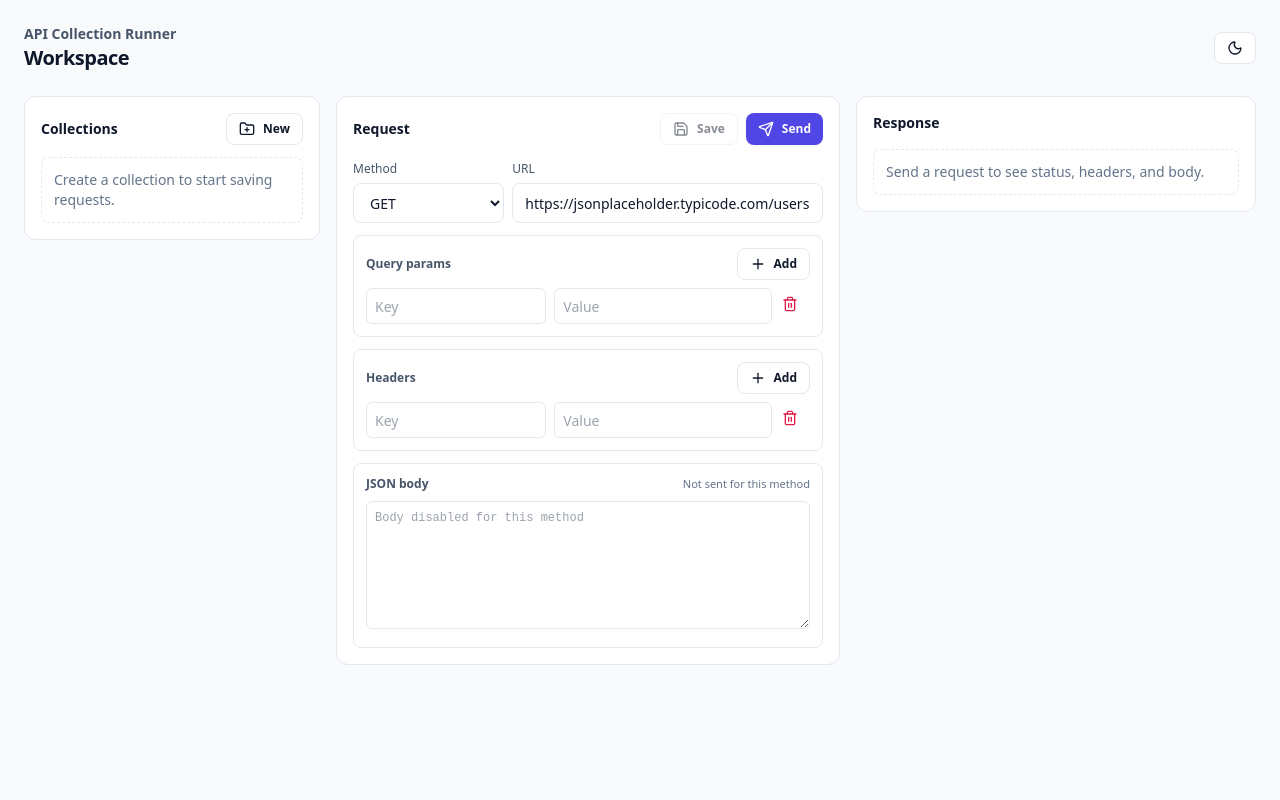
API Collection Runner › validates missing URL
The width and height of the screenshot is (1280, 800).
Clear the field labelled "URL": (668, 203) [512, 183, 823, 223]
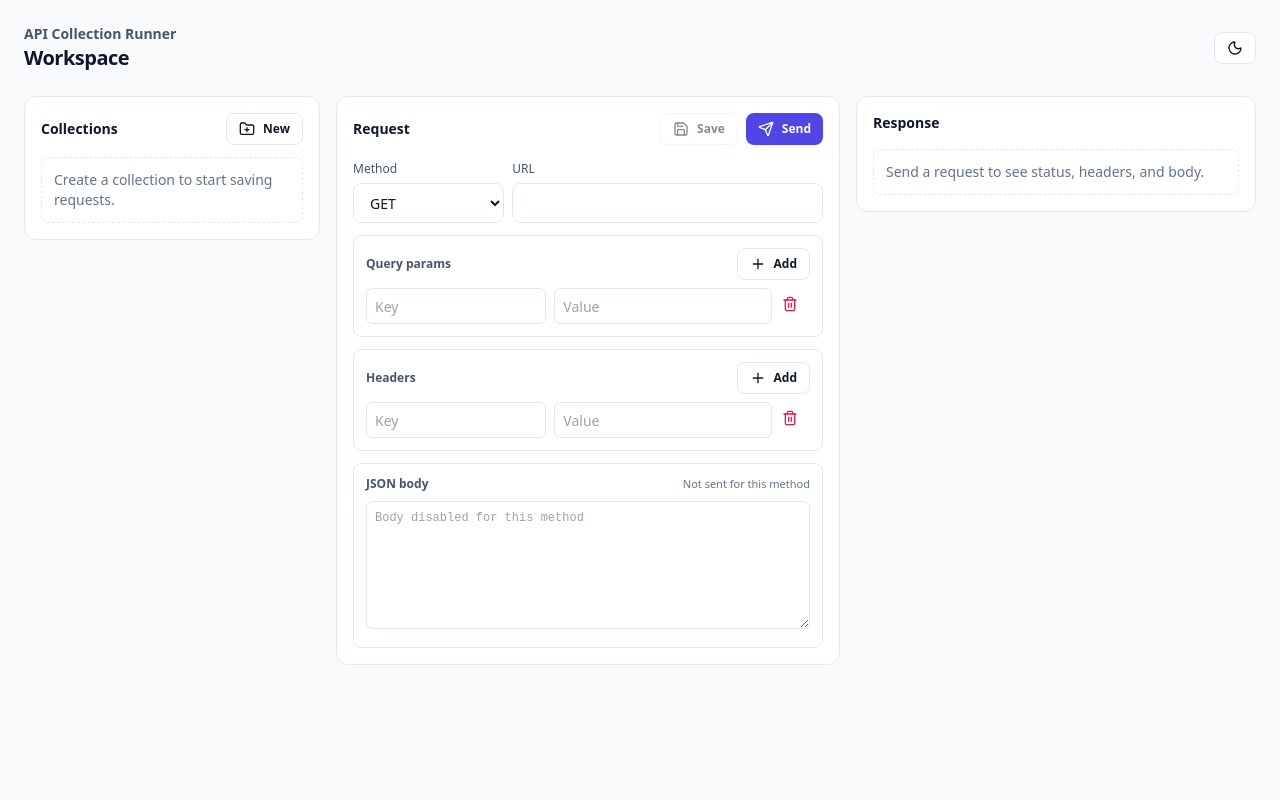
Click the button "Send": (784, 129) [746, 113, 823, 145]
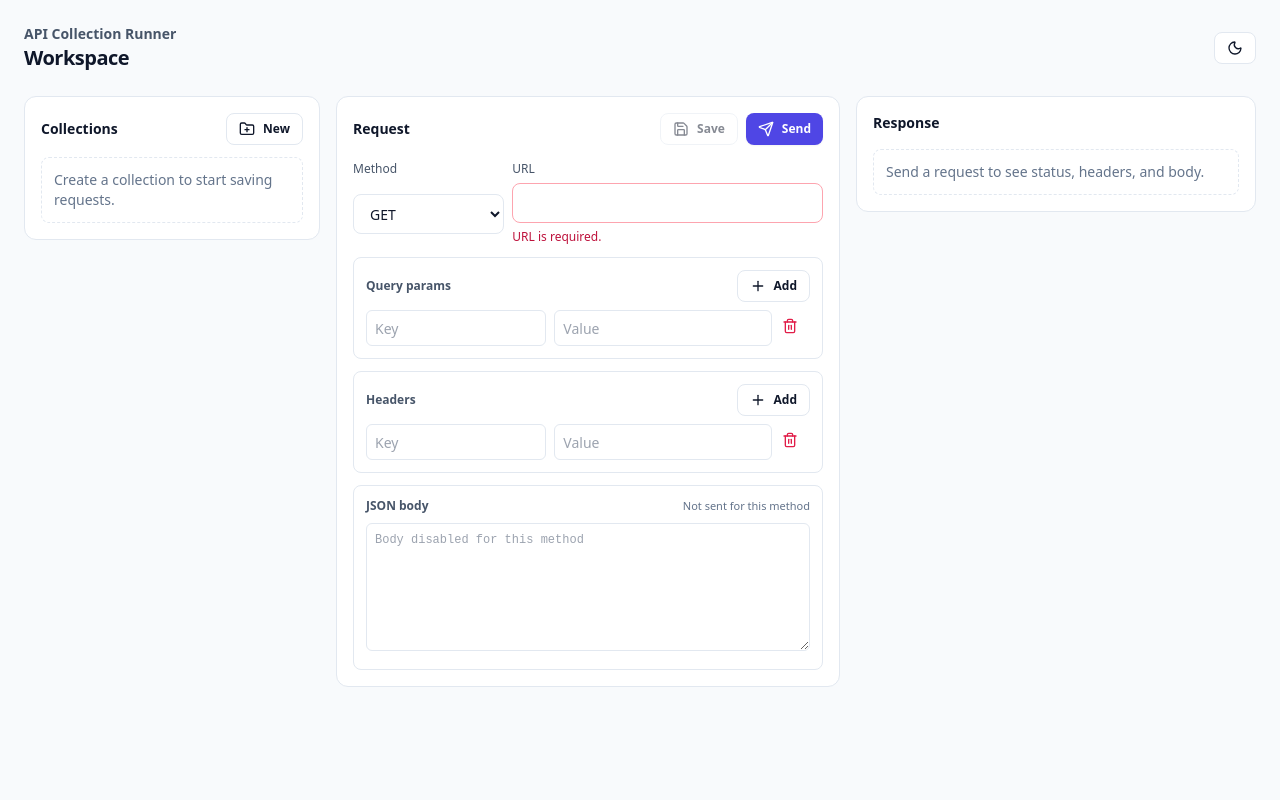
Result: the text "URL is required." is shown at [512, 228, 601, 245]
